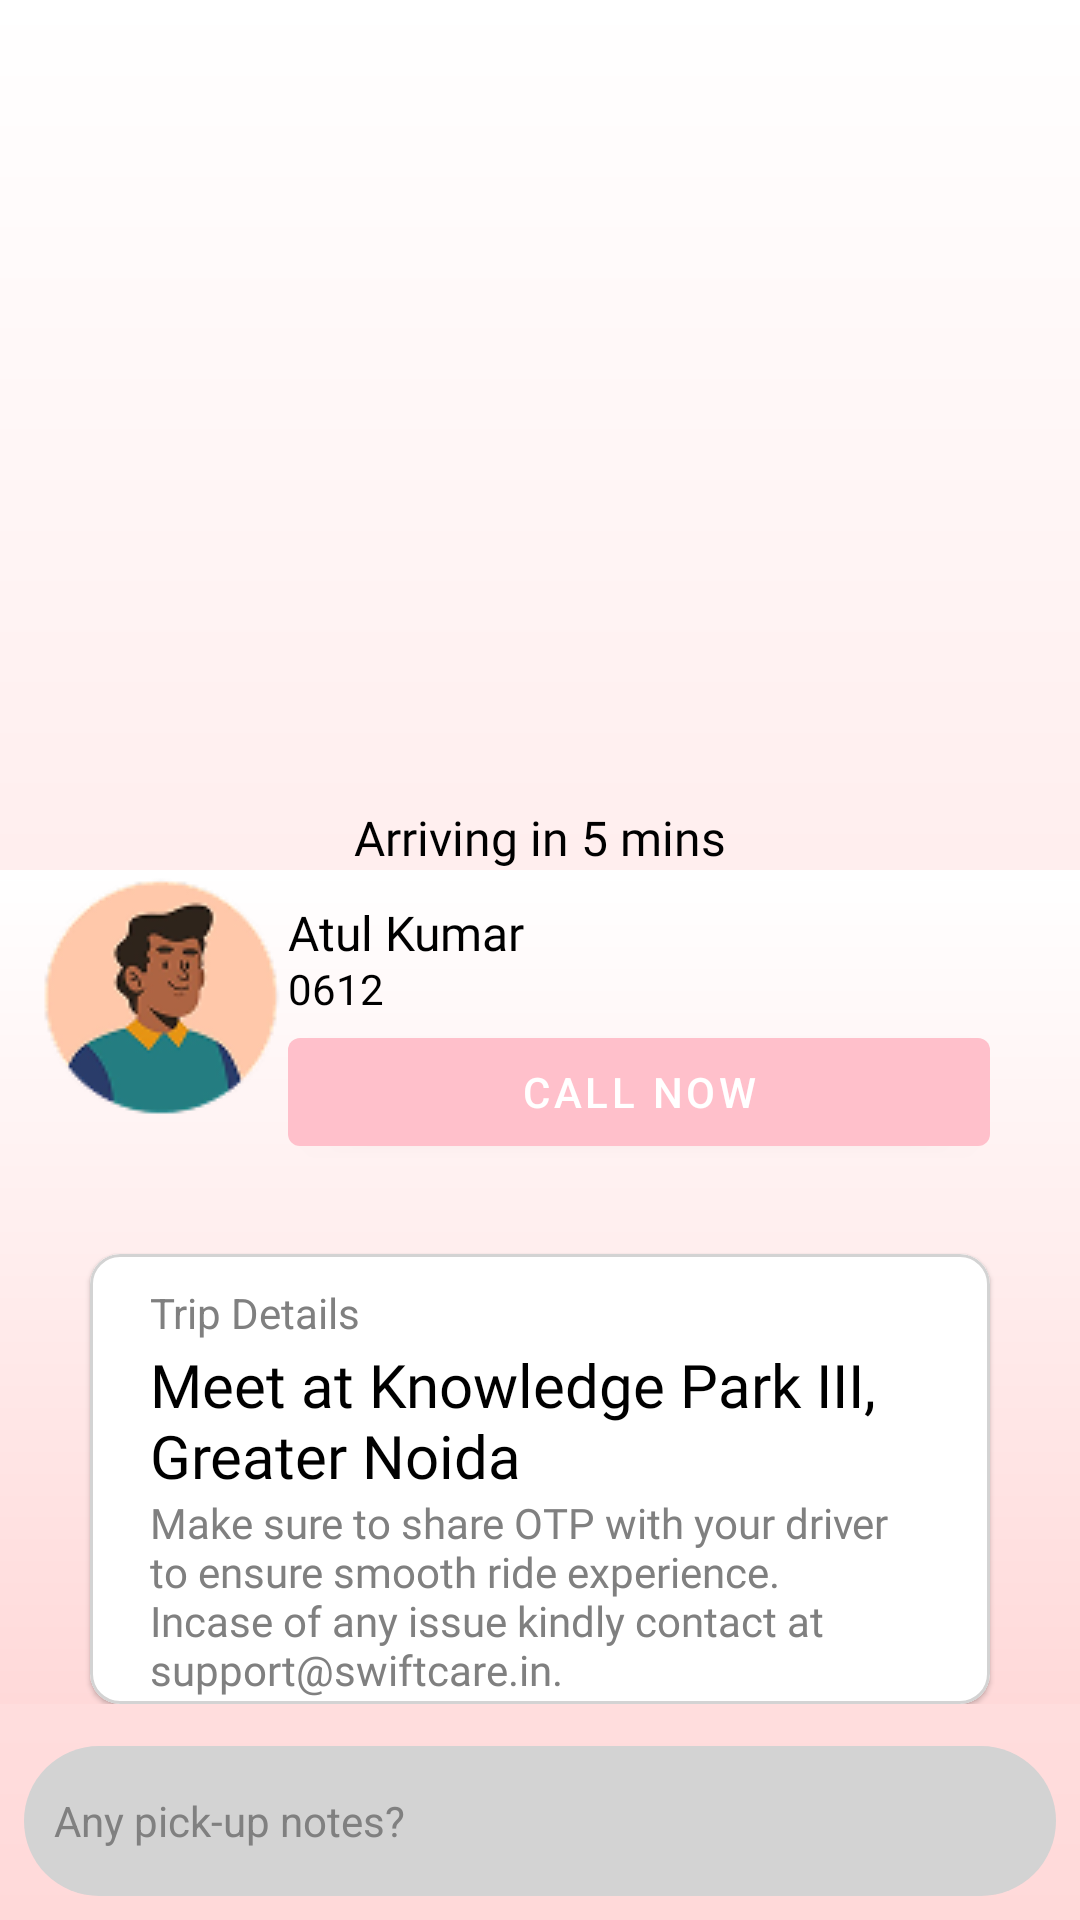

Icon click points for this 1080 × 1920 phone screenshot, format point (x, y):
male contact: point (161, 997)
